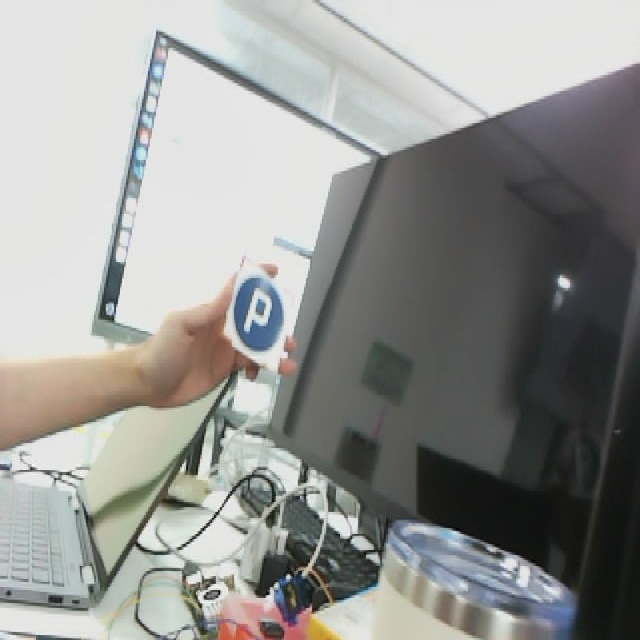parking: (219, 252, 295, 372)
